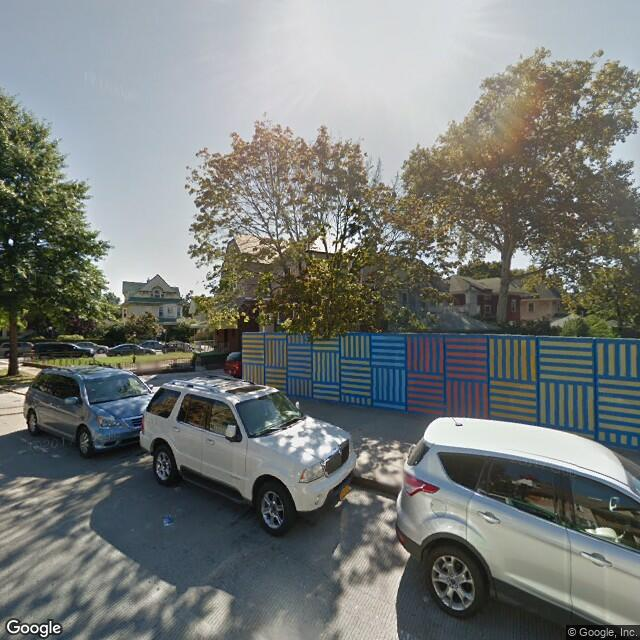litter: (159, 512, 175, 528), (15, 447, 29, 456)
